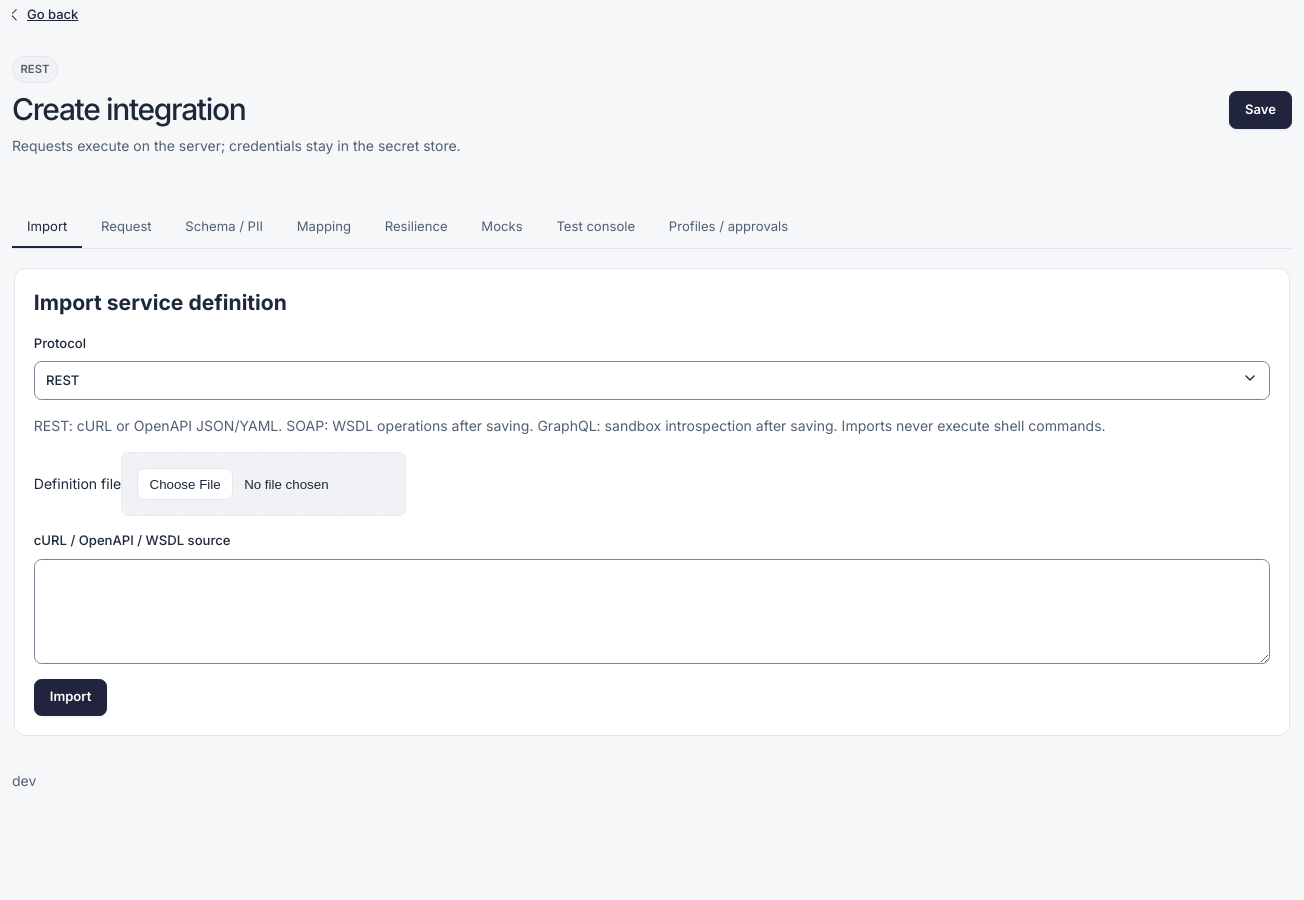
Scenario: rejects unsafe imports and keeps the last valid definition
Expected: the heading "Create integration" is shown, [12, 91, 245, 127]
In the text box labelled "cURL / OpenAPI / WSDL source": (652, 611) [34, 559, 1270, 664], type "curl $(synthetic-command)"
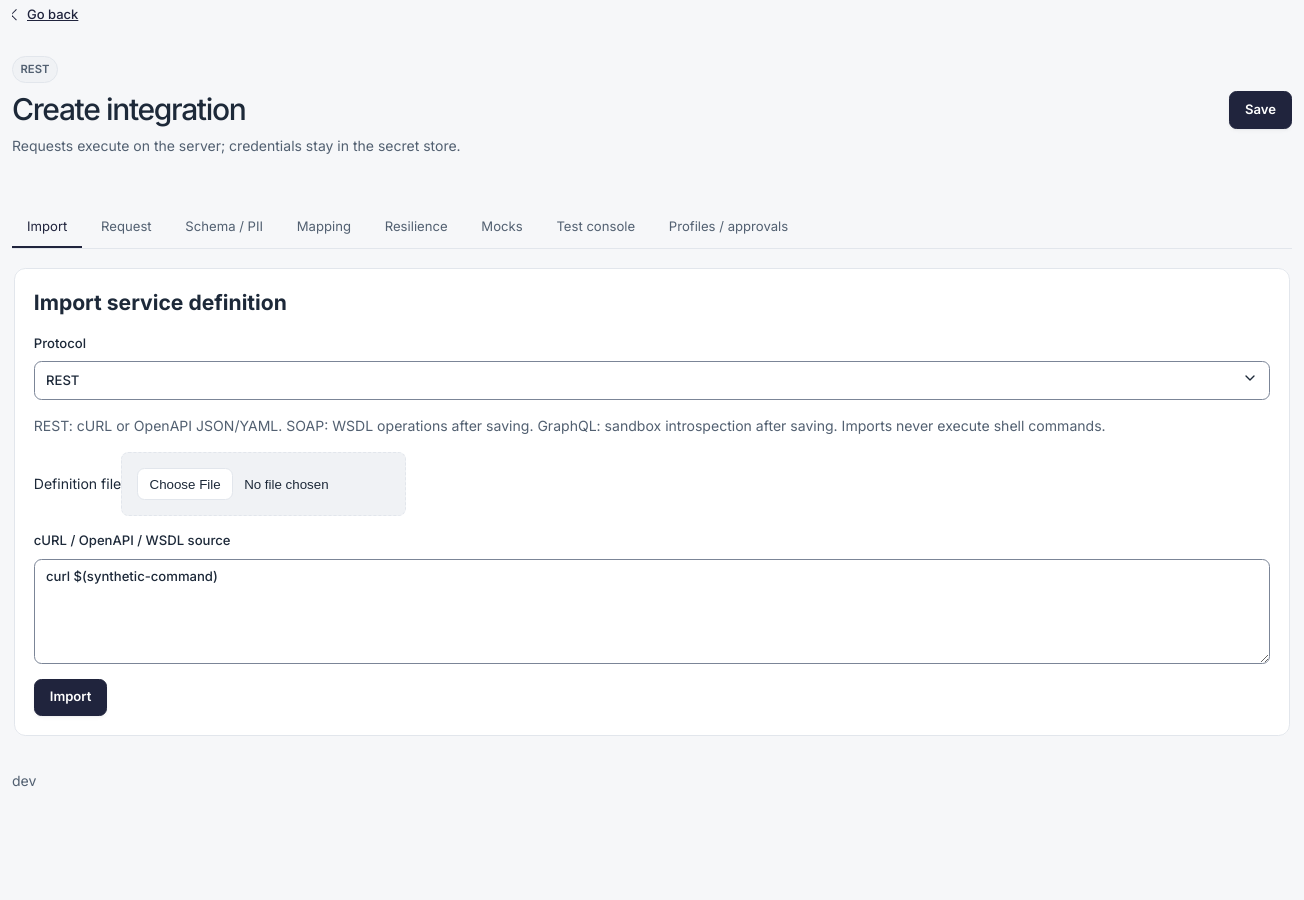
Click the button "Import": (71, 697) [34, 679, 108, 716]
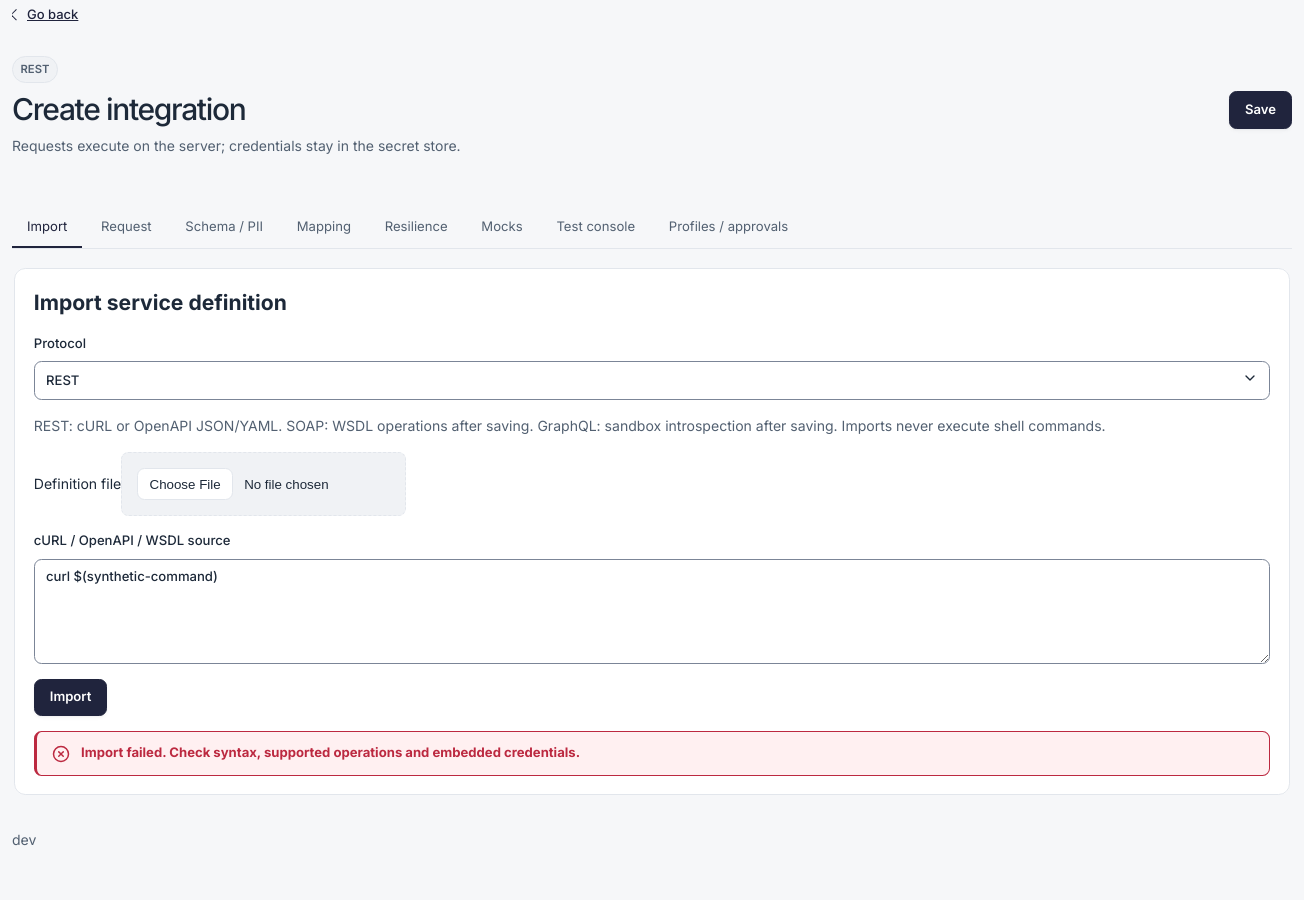
Now the text "Import failed. Check syntax, supported operations and embedded credentials." is shown, box [81, 744, 580, 760]
